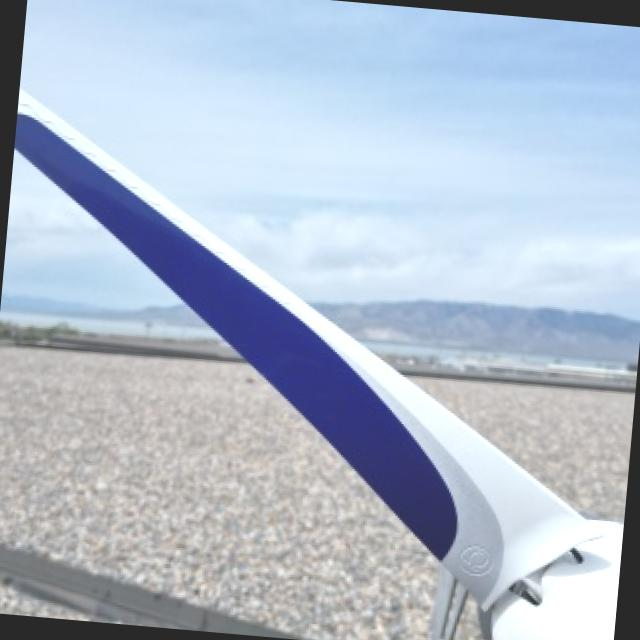healthy: (18, 88, 621, 640)
